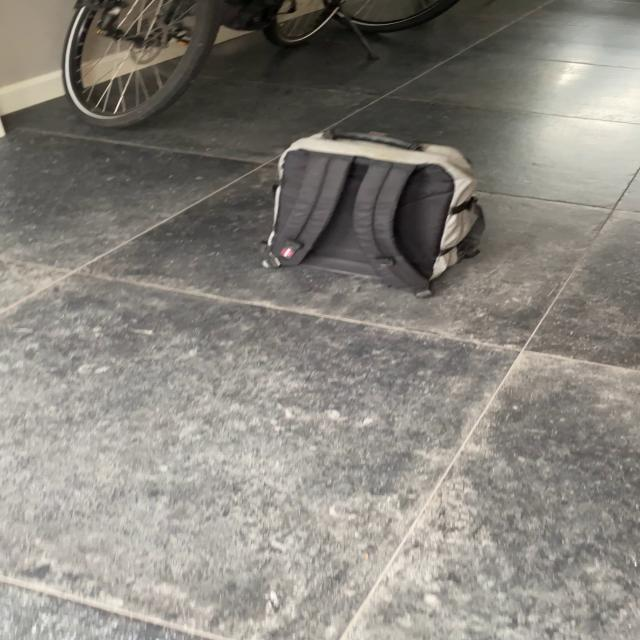backpack: (252, 124, 497, 293)
